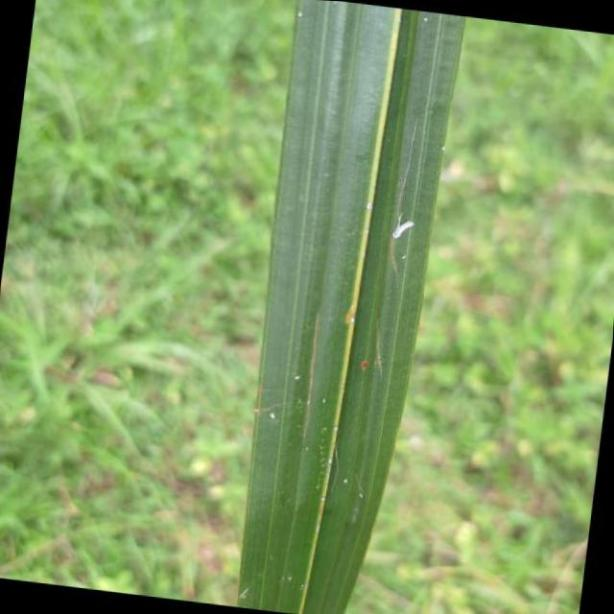Boron: (237, 0, 465, 614)
